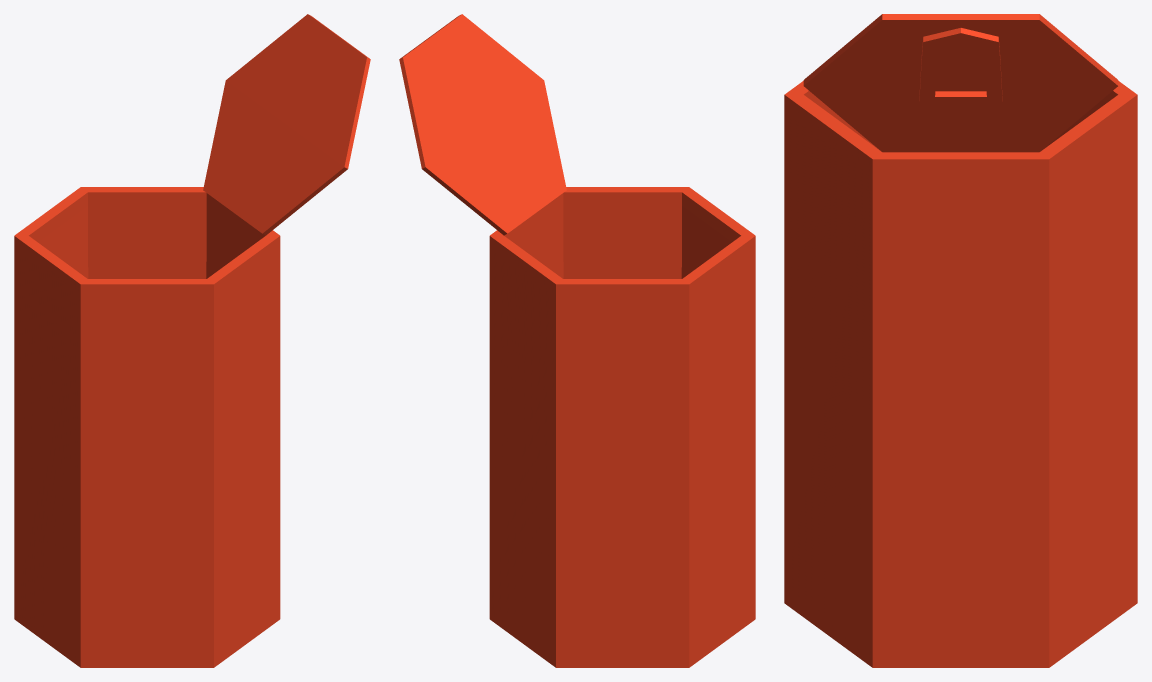
Rendered from SM_Tin_B_City.fbx.
3 renders of one model, left to right at view 1: azimuth 30°, elevation 25°; view 2: azimuth 150°, elevation 25°; view 3: azimuth 270°, elevation 25°, orthographic. The views are drawn at different scales.
Parts seen in each view (by area): view 1: SM_Tin_B_City; view 2: SM_Tin_B_City; view 3: SM_Tin_B_City.
Boxes of the visible parts, x1,y1,x2,y2 form: SM_Tin_B_City: (14, 14, 370, 667); SM_Tin_B_City: (399, 14, 755, 667); SM_Tin_B_City: (784, 14, 1137, 667).
Size of the model in its own units: 0.1001 by 0.175 by 0.0786.
